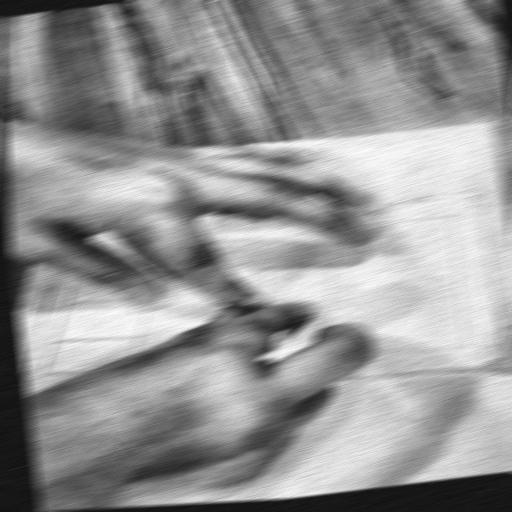bottom_right: (59, 158, 77, 166)
door: (11, 187, 512, 409)
top_right: (479, 119, 498, 127)
